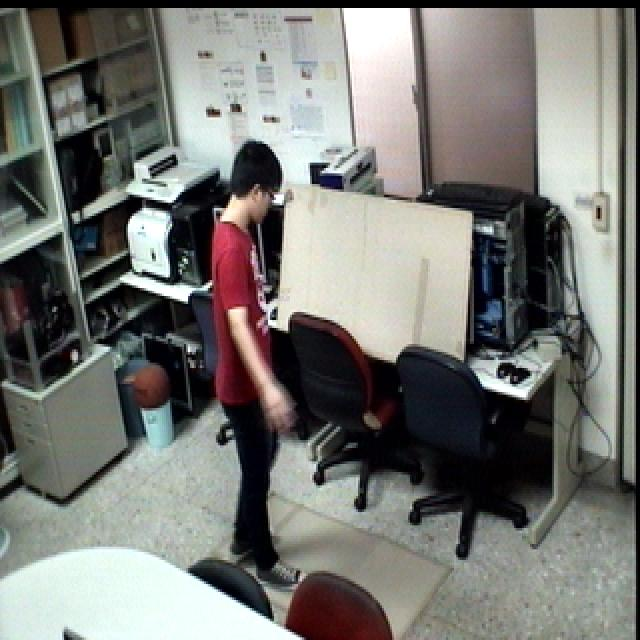stand: (207, 124, 323, 592)
